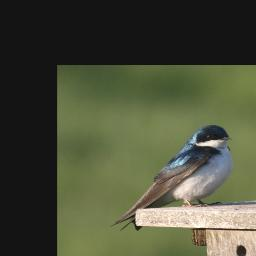Swallow: (109, 123, 235, 237)
